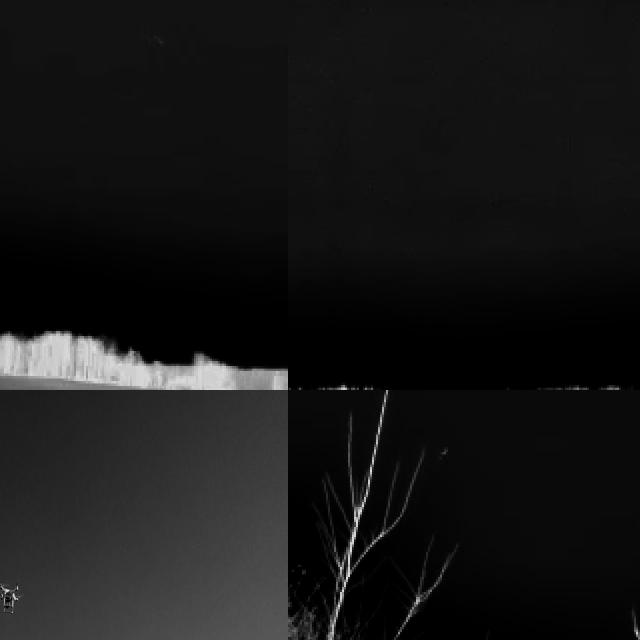0: (148, 26, 172, 54), (438, 442, 456, 467)
drone: (0, 577, 26, 617)
